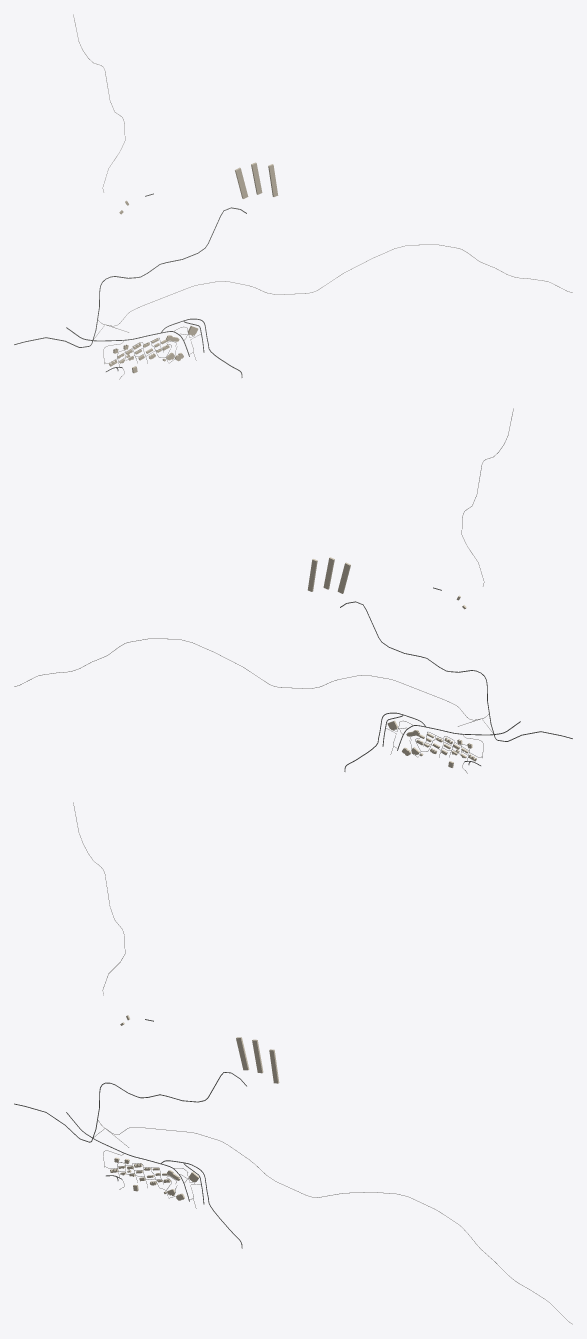
The model's file is historic-palestine-12_36_3543_3306.glb.
The picture shows the model from 3 angles, top to bottom: view 1: azimuth 30°, elevation 25°; view 2: azimuth 150°, elevation 25°; view 3: azimuth 330°, elevation 25°; orthographic projection.
Visible parts, largest first — view 1: Road .004, Road .002; view 2: Road .004, Road .002; view 3: no part large enough to name.
Part boxes in pixels (x1,y1,x2,y2): Road .004: (97, 244, 572, 326); Road .002: (14, 207, 246, 347); Road .004: (14, 638, 489, 720); Road .002: (340, 601, 572, 741).
Bounding box in the file's own units: 2216 × 1534 × 8.7.
